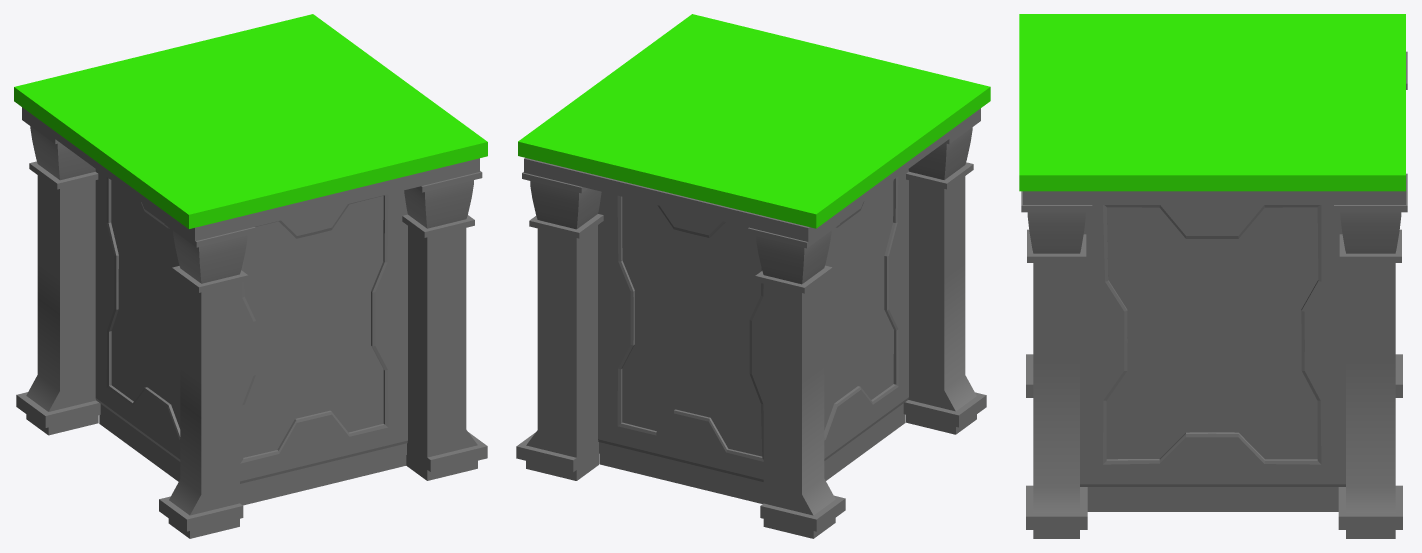
File: mesa2.fbx
3 renders of one model, left to right at view 1: azimuth 30°, elevation 25°; view 2: azimuth 150°, elevation 25°; view 3: azimuth 270°, elevation 25°, orthographic. The views are drawn at different scales.
Visible parts, largest first — view 1: Box027, Box002, Box008, Box004, Box003, Box006, Box007; view 2: Box027, Box002, Box008, Box006, Box005, Box004, Box007; view 3: Box027, Box002, Box008, Box005, Box003, Box007.
Part boxes in pixels (left/top/right/bottom): Box027: left=14, top=14, right=487, bottom=228; Box002: left=99, top=180, right=406, bottom=505; Box008: left=95, top=169, right=407, bottom=483; Box004: left=159, top=219, right=255, bottom=538; Box003: left=402, top=171, right=487, bottom=480; Box006: left=16, top=115, right=100, bottom=435; Box007: left=22, top=107, right=479, bottom=241; Box027: left=518, top=14, right=990, bottom=228; Box002: left=599, top=180, right=905, bottom=503; Box008: left=598, top=169, right=908, bottom=481; Box006: left=748, top=219, right=845, bottom=538; Box005: left=516, top=172, right=603, bottom=480; Box004: left=903, top=116, right=986, bottom=434; Box007: left=524, top=108, right=980, bottom=241; Box027: left=1019, top=14, right=1405, bottom=191; Box002: left=1087, top=207, right=1338, bottom=511; Box008: left=1080, top=205, right=1345, bottom=486; Box005: left=1334, top=173, right=1407, bottom=538; Box003: left=1021, top=191, right=1092, bottom=538; Box007: left=1023, top=191, right=1405, bottom=204.
Size of the model in its own units: 9.97 by 10.44 by 10.05.
